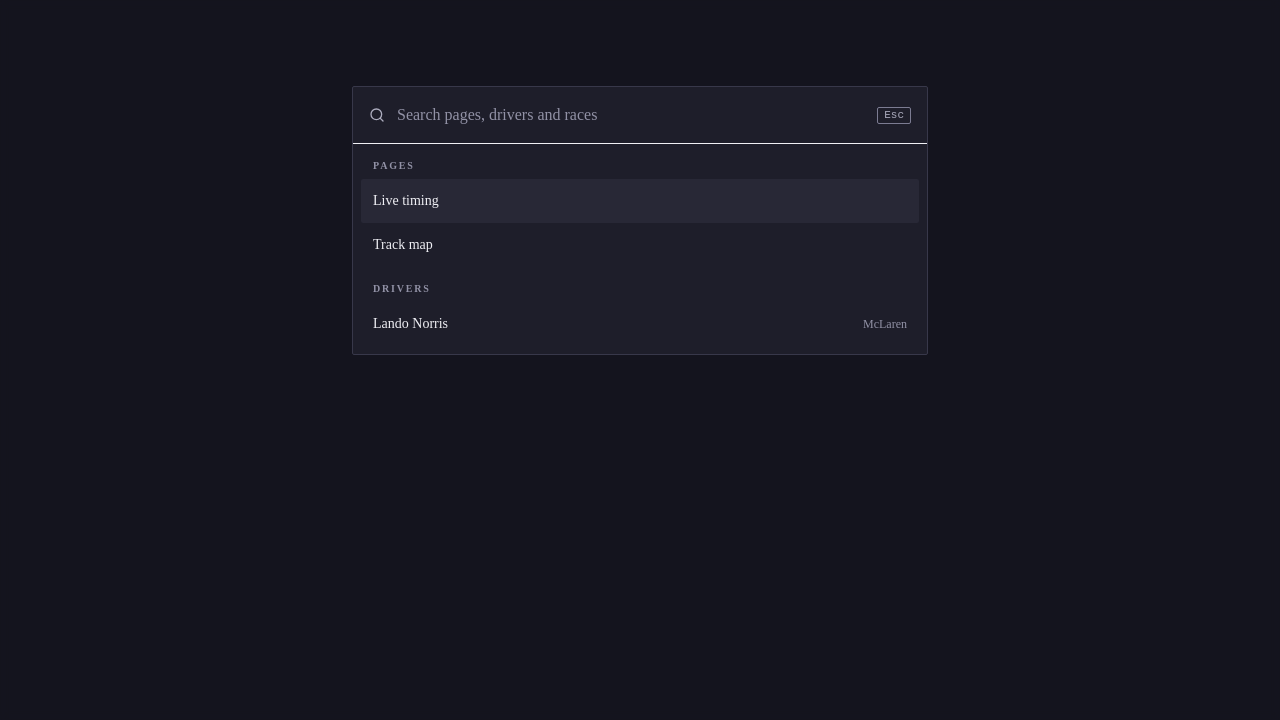
Test: PaletteView › filters as you type
This screenshot has width=1280, height=720.
In the dropdown: (631, 115) [397,87,865,143], type "norr"
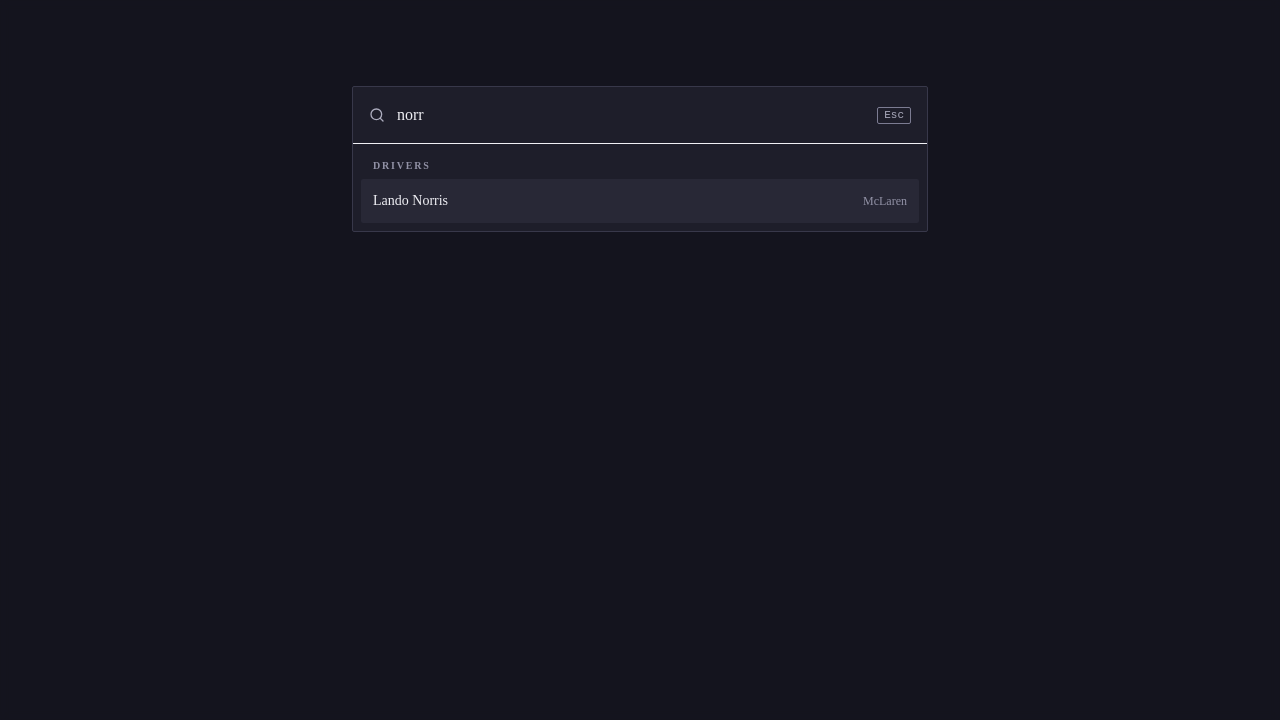
Expected: the options read "Lando NorrisMcLaren", in this order, [361,179,919,223]
